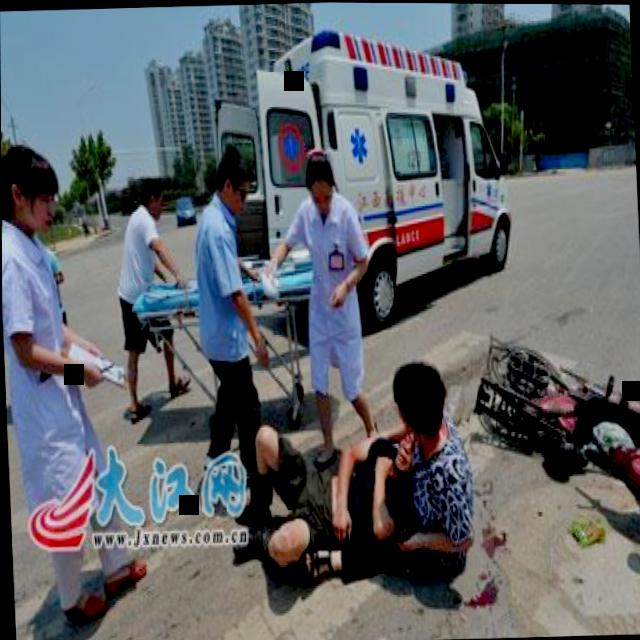Fall-Detected: (220, 402, 411, 591)
